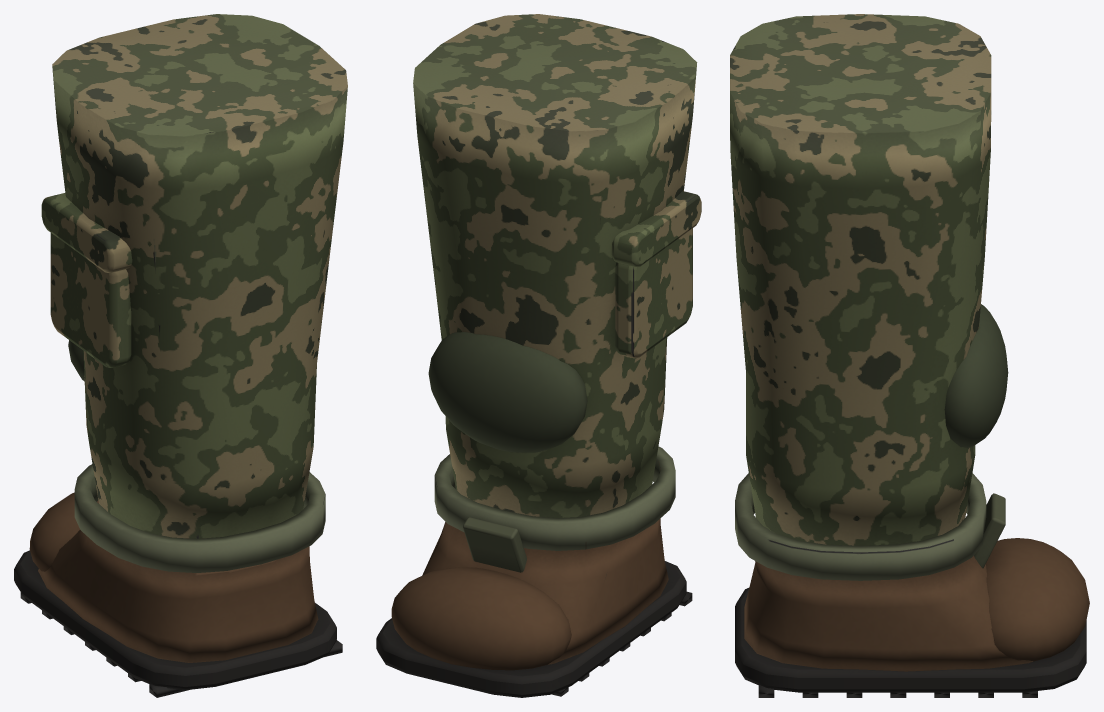
File: Alpha_Leg_L.fbx
3 views of the same model, side by side, from view 1: azimuth 30°, elevation 25°; view 2: azimuth 150°, elevation 25°; view 3: azimuth 270°, elevation 25° (orthographic). The views are drawn at different scales.
Parts seen in each view (by area): view 1: Alpha_Leg_L_body; view 2: Alpha_Leg_L_body; view 3: Alpha_Leg_L_body.
Part boxes in pixels (x1,y1,x2,y2): Alpha_Leg_L_body: (14,14,347,697); Alpha_Leg_L_body: (376,14,701,697); Alpha_Leg_L_body: (730,14,1089,697).
Bounding box in the file's own units: 91 × 203 × 115.
Materials: 1 (1 with a texture image).
